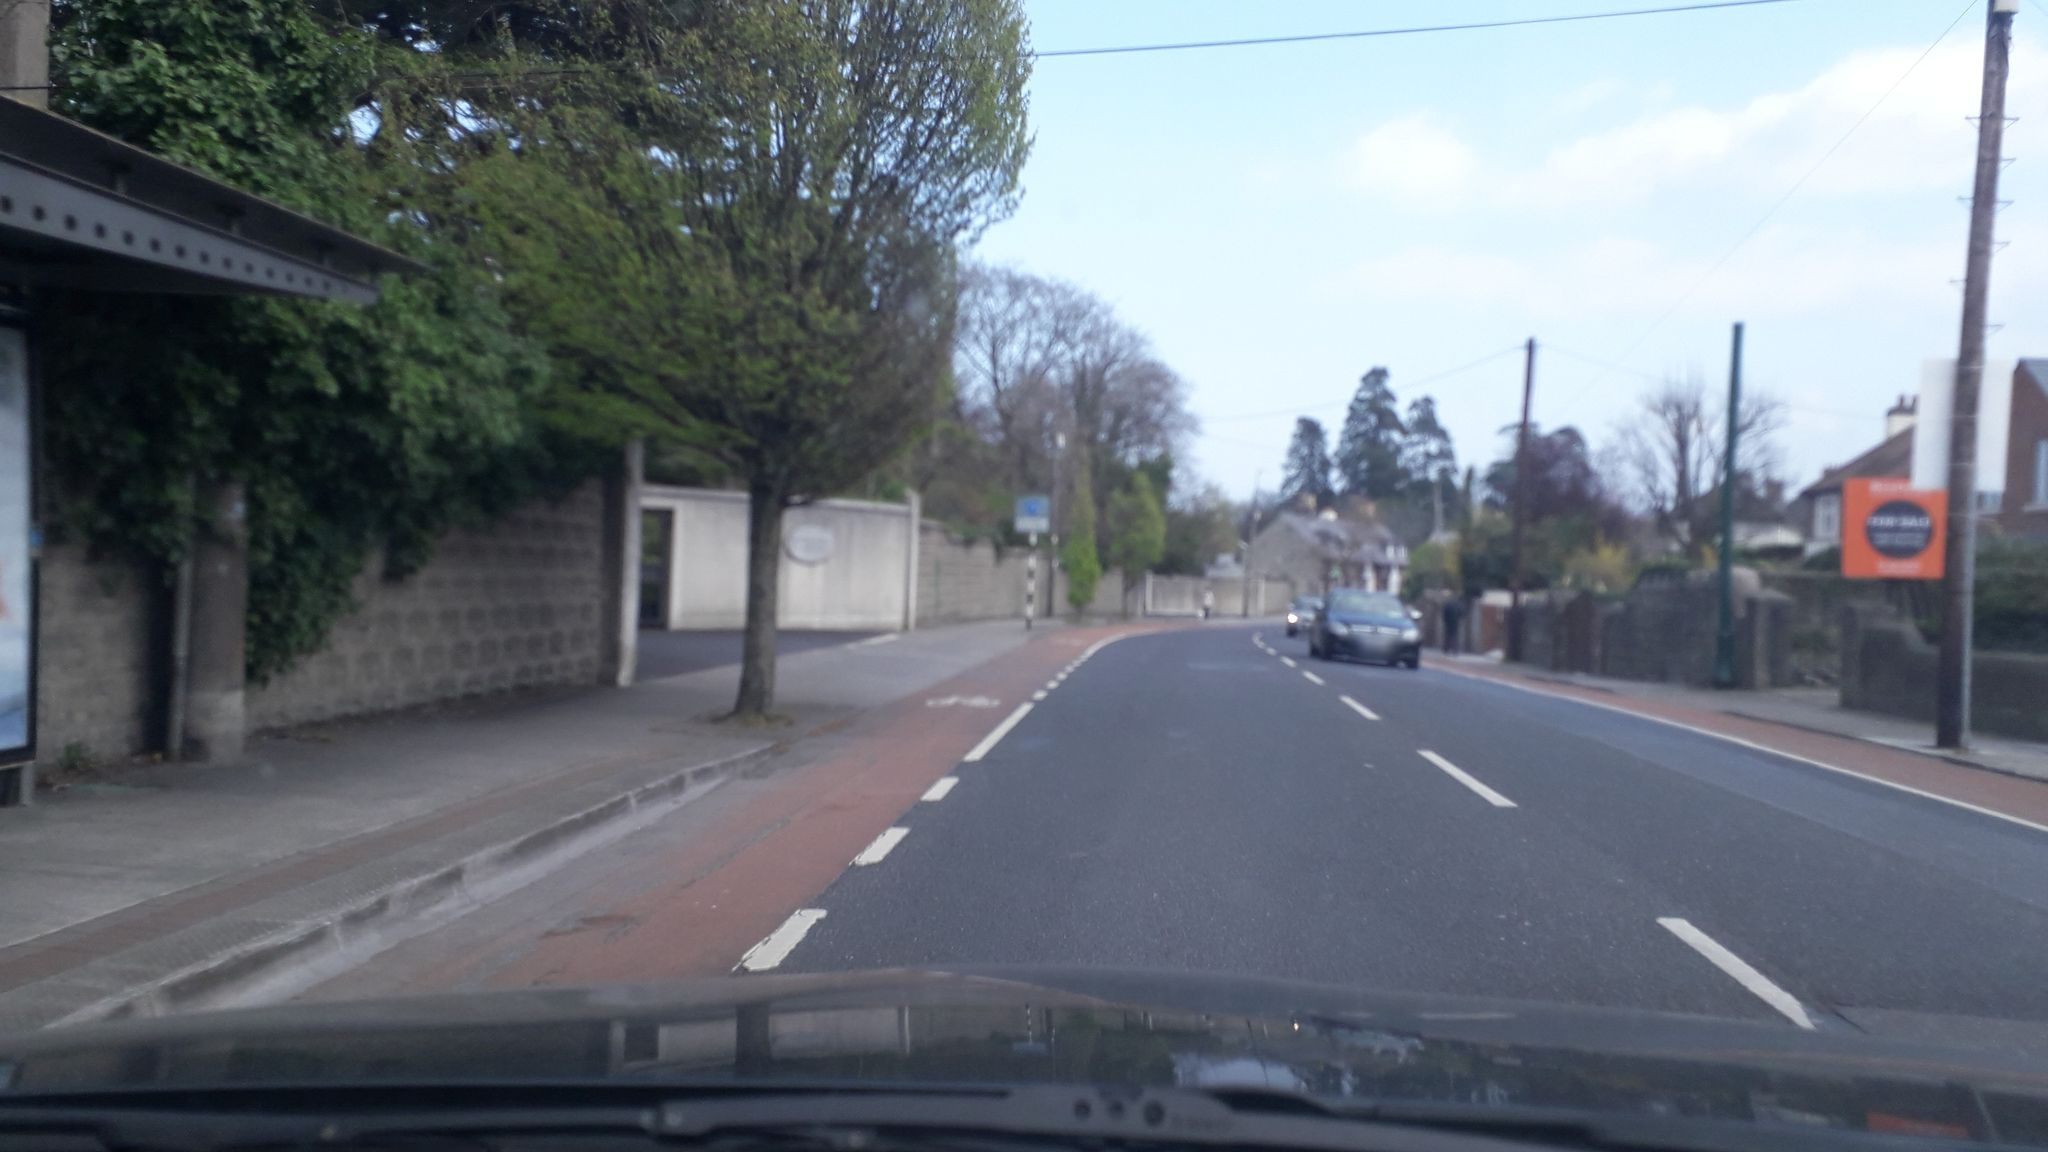property sign: (1820, 447, 1951, 596)
